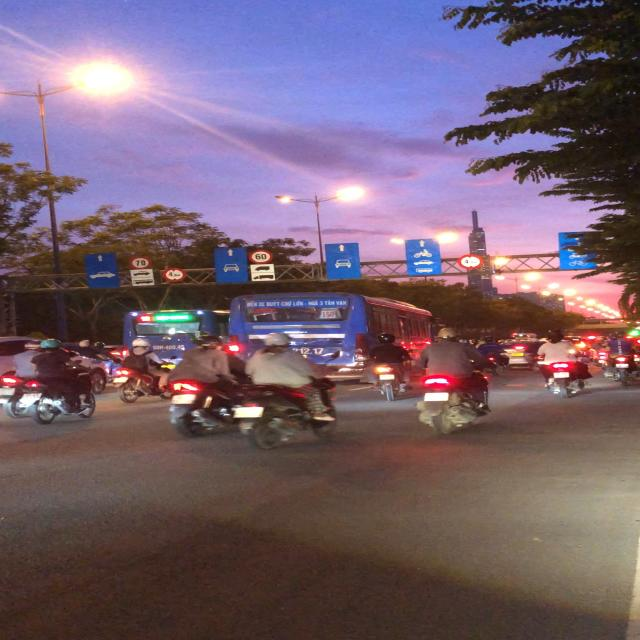Bien bao han che chieu cao: (158, 266, 190, 284), (454, 254, 483, 272)
Bien bao toc do toi da cho phep: (244, 248, 278, 264), (123, 253, 153, 269)
